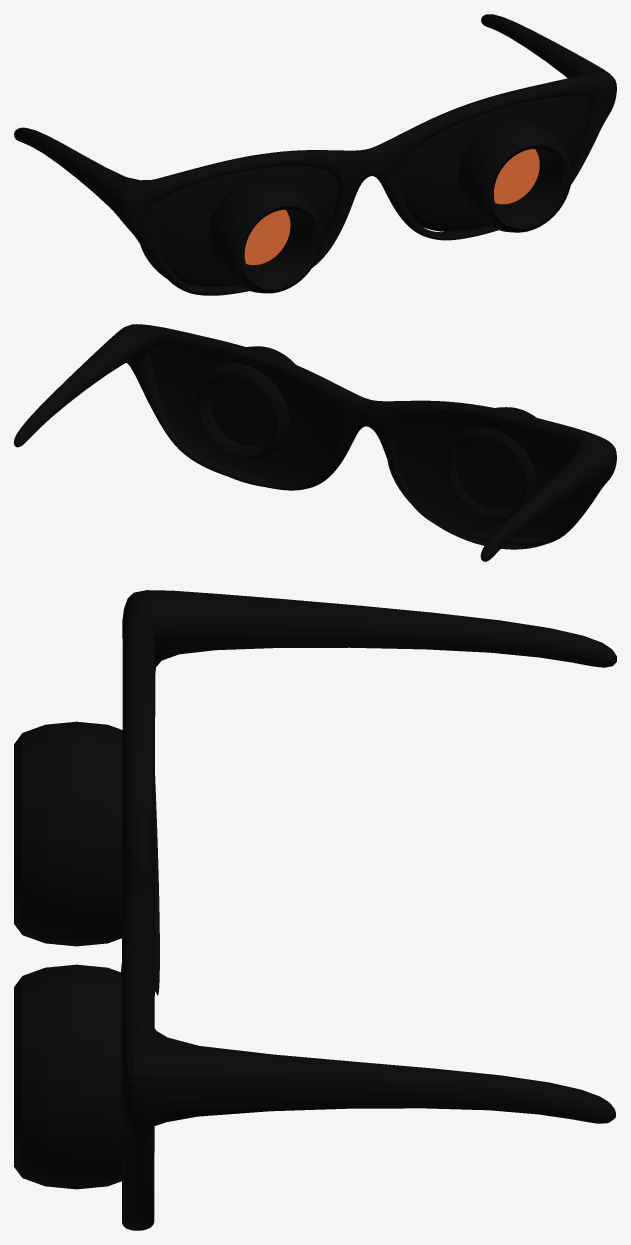
File: ThermalGlasses.fbx
3 views of the same model, one above another, from view 1: azimuth 30°, elevation 25°; view 2: azimuth 150°, elevation 25°; view 3: azimuth 270°, elevation 25° (orthographic). The views are drawn at different scales.
Visible parts, largest first — view 1: Cube, Glass, Glass.001, Torus.004, Torus.001, Circle.001, Circle; view 2: Cube, Glass, Glass.001, Torus.001, Torus.004; view 3: Cube, Torus.004, Torus.001.
Boxes of the visible parts, left/top/right/bottom form: Cube: left=14, top=14, right=616, bottom=295; Glass: left=400, top=91, right=589, bottom=231; Glass.001: left=140, top=165, right=337, bottom=286; Torus.004: left=208, top=179, right=322, bottom=293; Torus.001: left=458, top=118, right=571, bottom=232; Circle.001: left=244, top=209, right=290, bottom=264; Circle: left=494, top=149, right=539, bottom=204; Cube: left=14, top=324, right=616, bottom=561; Glass: left=149, top=340, right=337, bottom=487; Glass.001: left=387, top=416, right=592, bottom=549; Torus.001: left=197, top=346, right=295, bottom=460; Torus.004: left=446, top=407, right=535, bottom=520; Cube: left=121, top=590, right=616, bottom=1230; Torus.004: left=14, top=721, right=122, bottom=946; Torus.001: left=14, top=964, right=121, bottom=1189.
Size of the model in its own units: 457 by 119 by 241.
